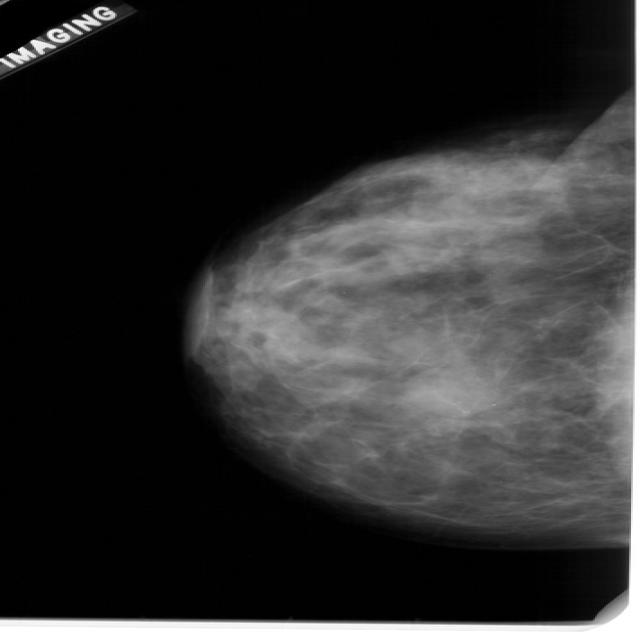tumour: (403, 365, 496, 417)
